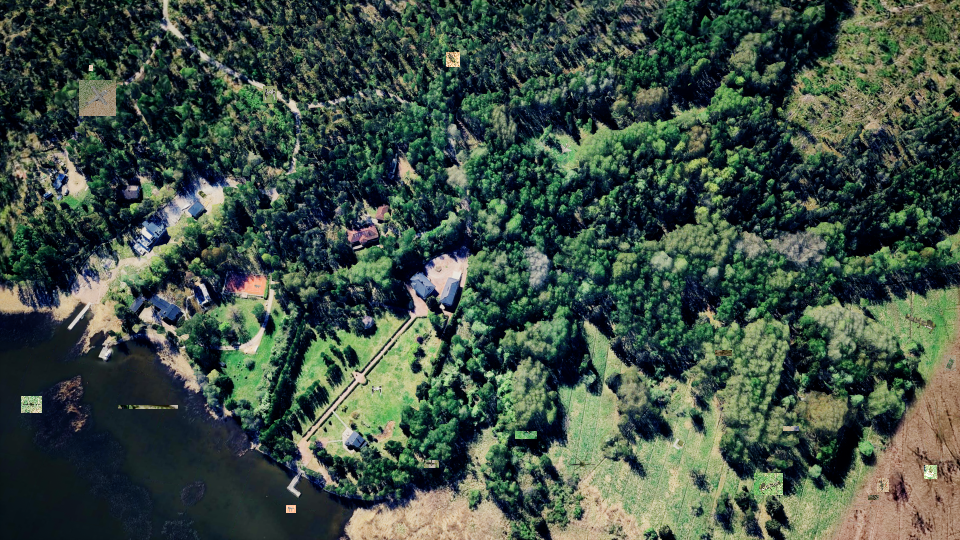condor: (79, 80, 116, 116)
hangar: (118, 405, 178, 409)
helicopter: (21, 396, 42, 413)
jammer: (944, 355, 956, 371)
jet_plane: (515, 431, 537, 439)
large_launcher: (754, 473, 783, 495)
large_tower: (868, 495, 879, 500)
medium_launcher: (715, 350, 732, 356)
medium_plane: (424, 460, 439, 468)
mine_roller: (446, 52, 460, 67)
small_launcher: (89, 65, 93, 71)
small_plane: (877, 478, 889, 492)
small_tower: (924, 465, 937, 479)
spacecraft: (263, 86, 277, 103)
ta-ta: (286, 505, 296, 513)
tank: (783, 426, 799, 431)
